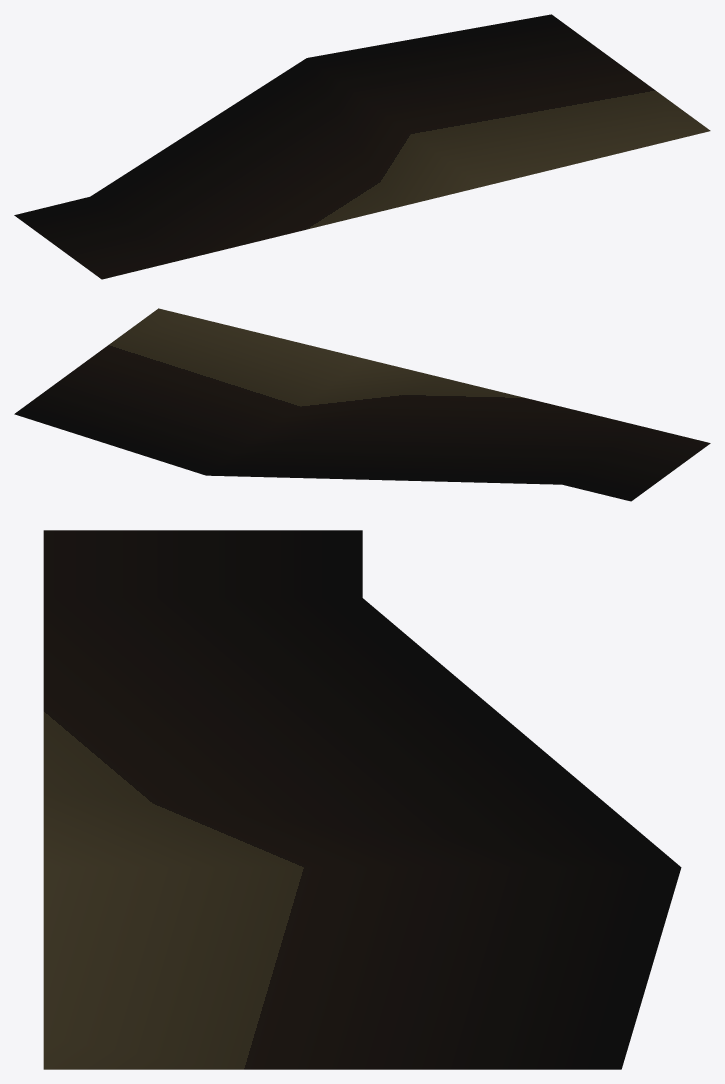
The picture shows the model from 3 angles, top to bottom: view 1: azimuth 30°, elevation 25°; view 2: azimuth 150°, elevation 25°; view 3: azimuth 270°, elevation 25°; orthographic projection. The views are drawn at different scales.
Bounding box in the file's own units: 1 × 0 × 0.5.
1 material, 1 textured.
